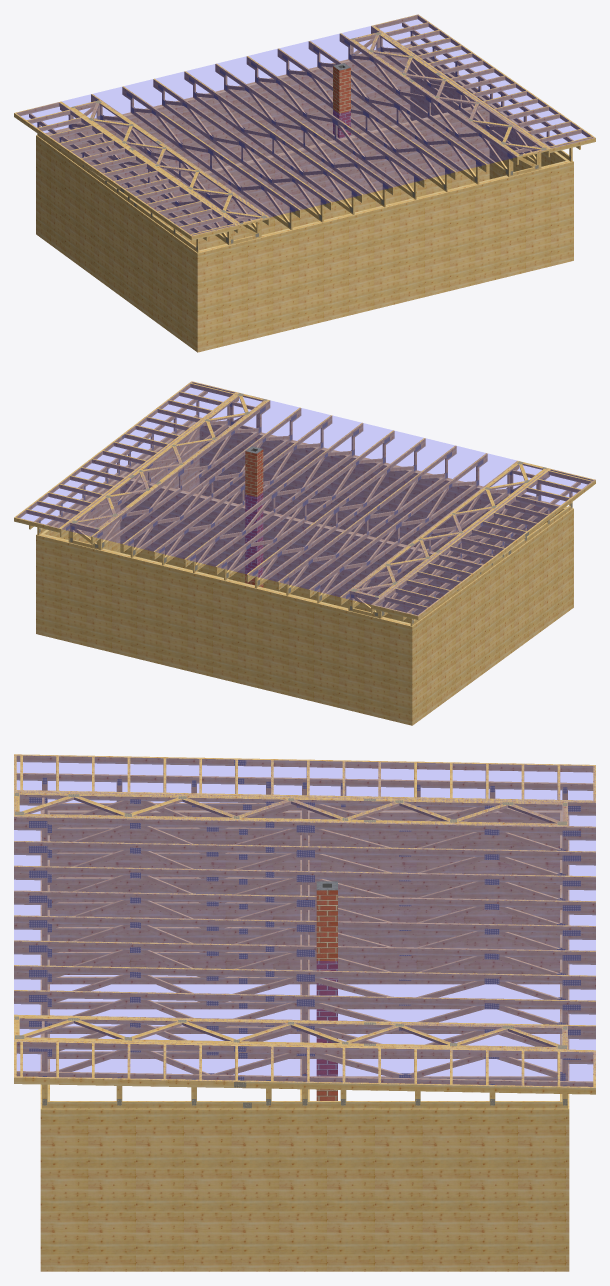
3 renders of one model, top to bottom at view 1: azimuth 30°, elevation 25°; view 2: azimuth 150°, elevation 25°; view 3: azimuth 270°, elevation 25°, orthographic. The views are drawn at different scales.
Visible parts, largest first — view 1: skfb_offset; view 2: skfb_offset; view 3: skfb_offset.
Boxes of the visible parts, box(x1,y1,x2,y2) form: skfb_offset: box(14, 14, 595, 352); skfb_offset: box(14, 381, 595, 725); skfb_offset: box(14, 754, 595, 1271).
Size of the model in its own units: 12814 by 5000 by 9750.
6 materials, 5 textured.
